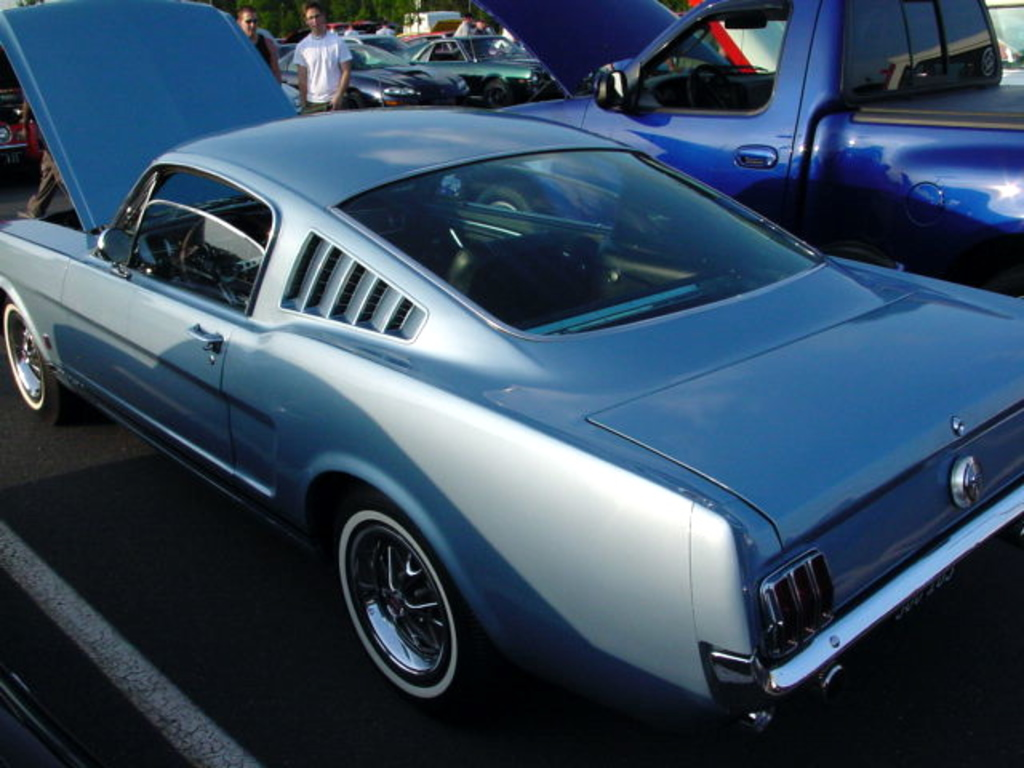mobil: (1, 130, 1024, 710)
